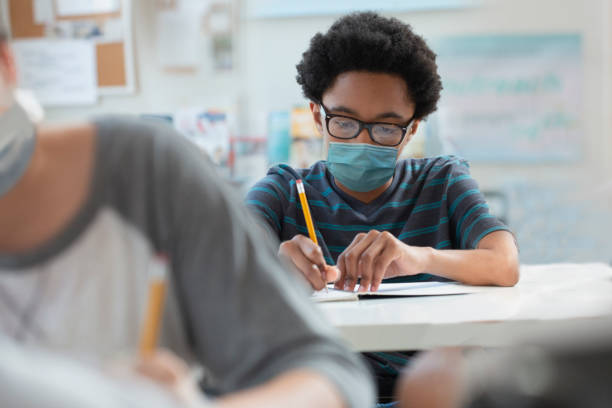with mask: (295, 26, 438, 191)
